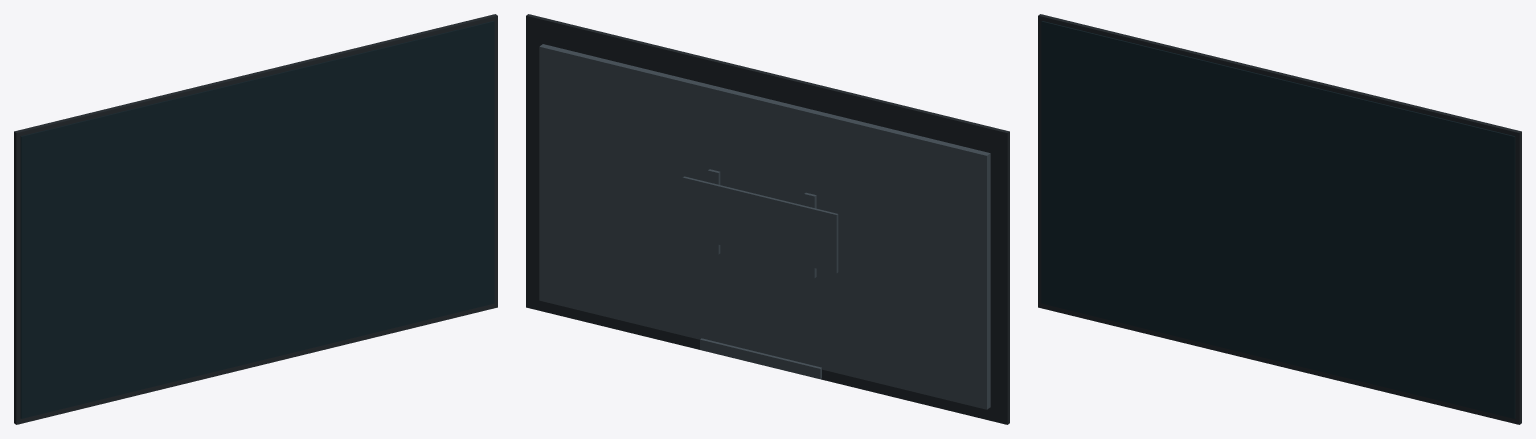
Rendered from television-2.glb.
3 views of the same model, side by side, from view 1: azimuth 30°, elevation 25°; view 2: azimuth 150°, elevation 25°; view 3: azimuth 330°, elevation 25° (orthographic).
Parts seen in each view (by area): view 1: television:2:editor; view 2: television:2:editor; view 3: television:2:editor.
Boxes of the visible parts, left/top/right/bottom form: television:2:editor: left=14, top=14, right=497, bottom=424; television:2:editor: left=526, top=14, right=1009, bottom=424; television:2:editor: left=1038, top=14, right=1521, bottom=424.
Size of the model in its own units: 1.45 by 0.84 by 0.0532.
